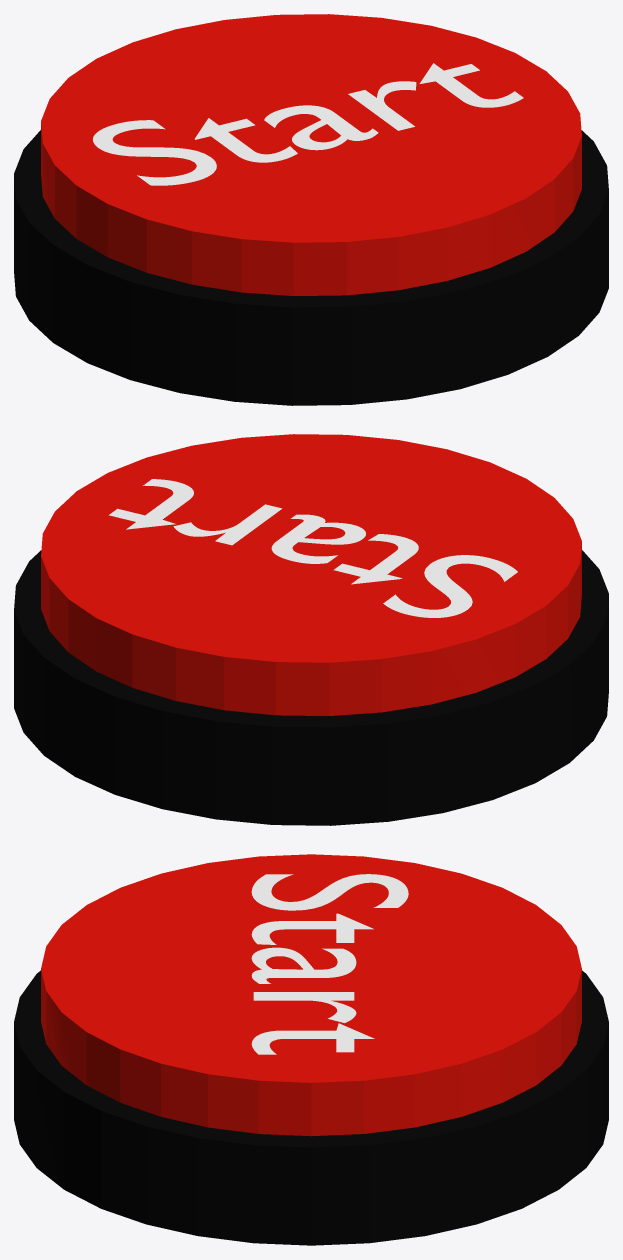
3 renders of one model, top to bottom at view 1: azimuth 30°, elevation 25°; view 2: azimuth 150°, elevation 25°; view 3: azimuth 270°, elevation 25°, orthographic.
Parts seen in each view (by area): view 1: Button, Base, Text; view 2: Button, Base, Text; view 3: Button, Base, Text.
Boxes of the visible parts, x1,y1,x2,y2 form: Button: [41, 14, 581, 295]; Base: [14, 130, 608, 405]; Text: [93, 63, 523, 185]; Button: [41, 434, 581, 715]; Base: [14, 550, 608, 825]; Text: [109, 479, 517, 617]; Button: [41, 854, 581, 1136]; Base: [14, 970, 608, 1245]; Text: [251, 874, 408, 1054].
Bounding box in the file's own units: 2.2 × 0.6362 × 2.2.
